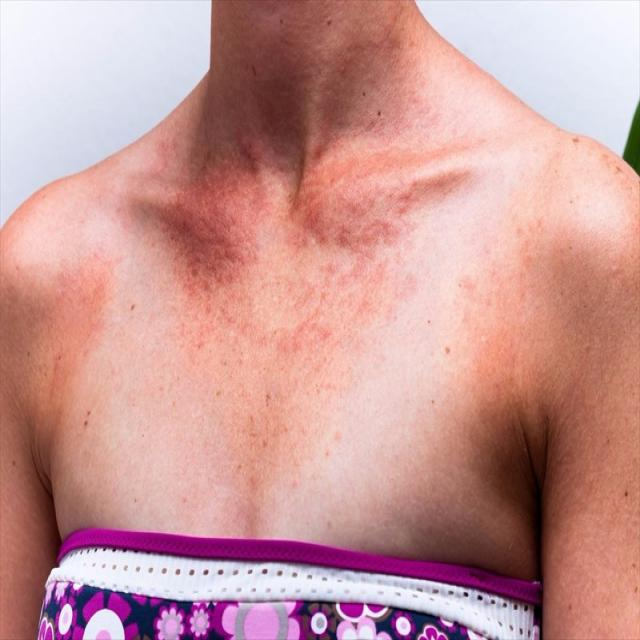hives: (128, 2, 440, 360)
